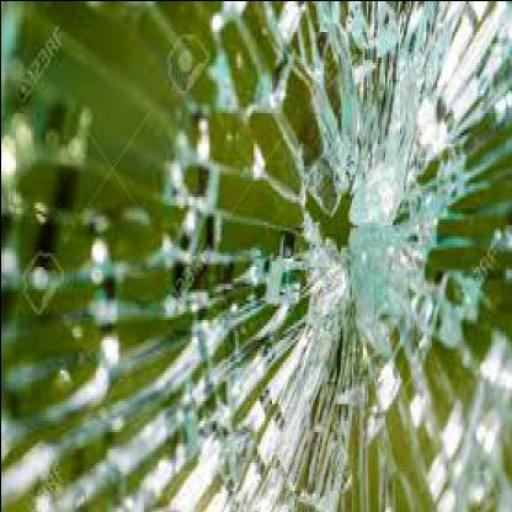glass: (1, 1, 511, 510), (1, 236, 353, 510), (1, 1, 350, 233), (353, 224, 510, 510), (342, 0, 510, 222)
